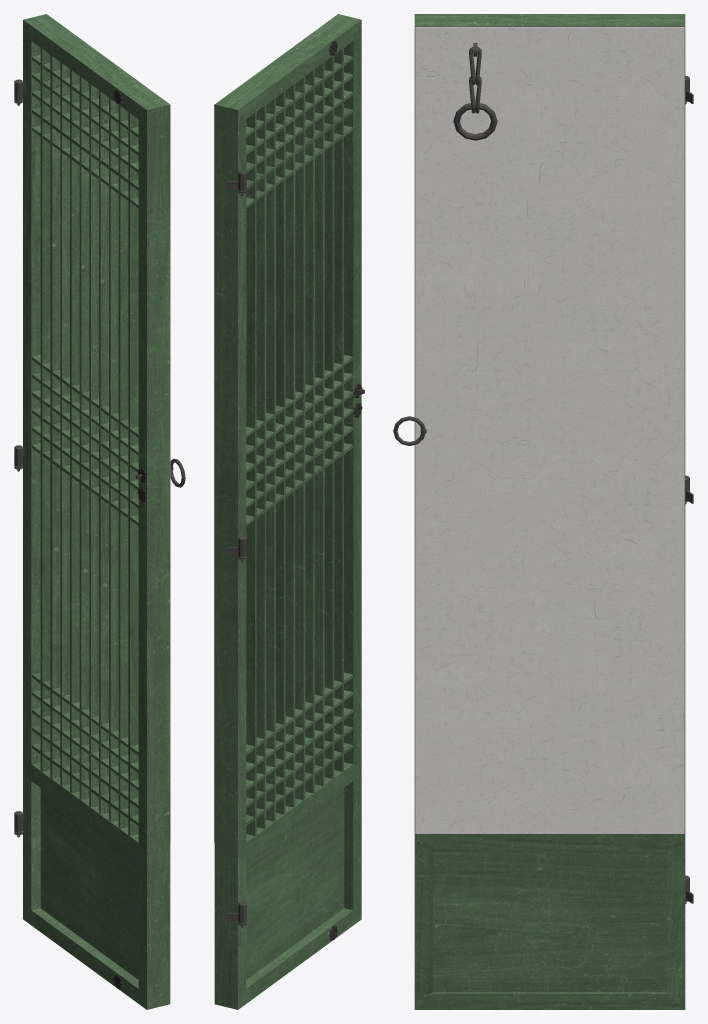
The model's file is SM_Door03B.fbx.
3 views of the same model, side by side, from view 1: azimuth 30°, elevation 25°; view 2: azimuth 150°, elevation 25°; view 3: azimuth 270°, elevation 25° (orthographic). The views are drawn at different scales.
Visible parts, largest first — view 1: SM_Door03B; view 2: SM_Door03B; view 3: SM_Door03B.
Part boxes in pixels (x1=…): SM_Door03B: x1=14, y1=14, x2=185, y2=1009; SM_Door03B: x1=214, y1=14, x2=364, y2=1009; SM_Door03B: x1=393, y1=14, x2=693, y2=1009.
Bounding box in the file's own units: 10.85 × 54.51 × 197.
